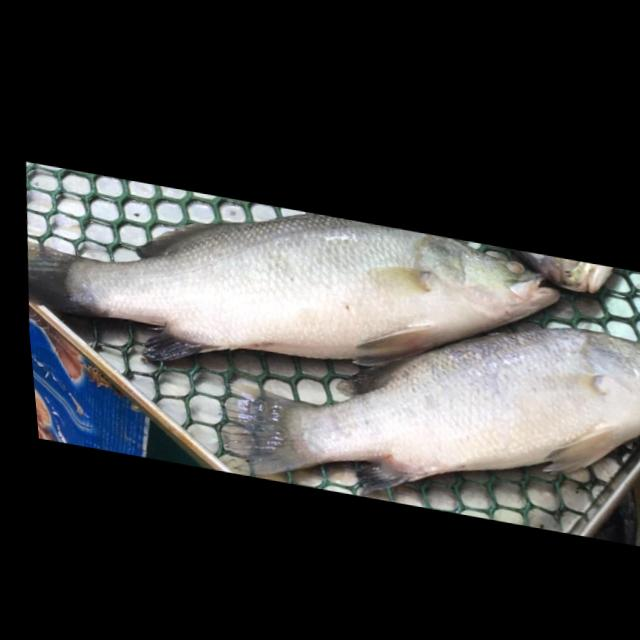Seabass: (14, 159, 576, 438), (195, 251, 640, 552)
